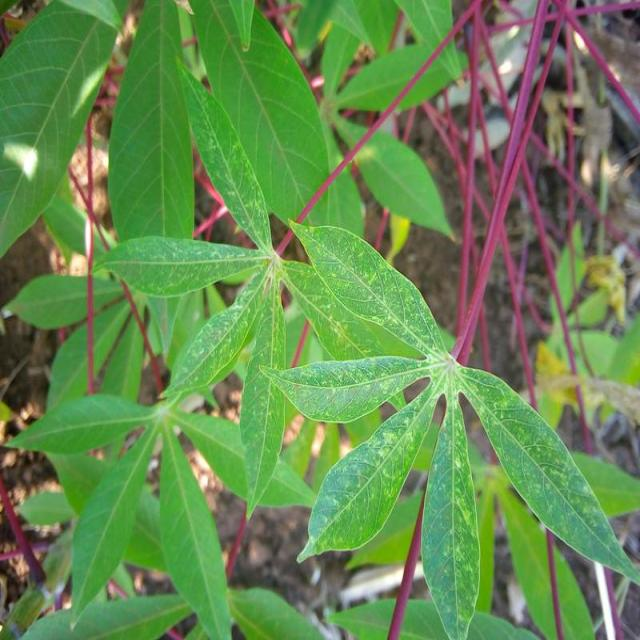cassava leaf: (2, 0, 640, 638), (264, 218, 639, 636), (1, 0, 124, 258)
